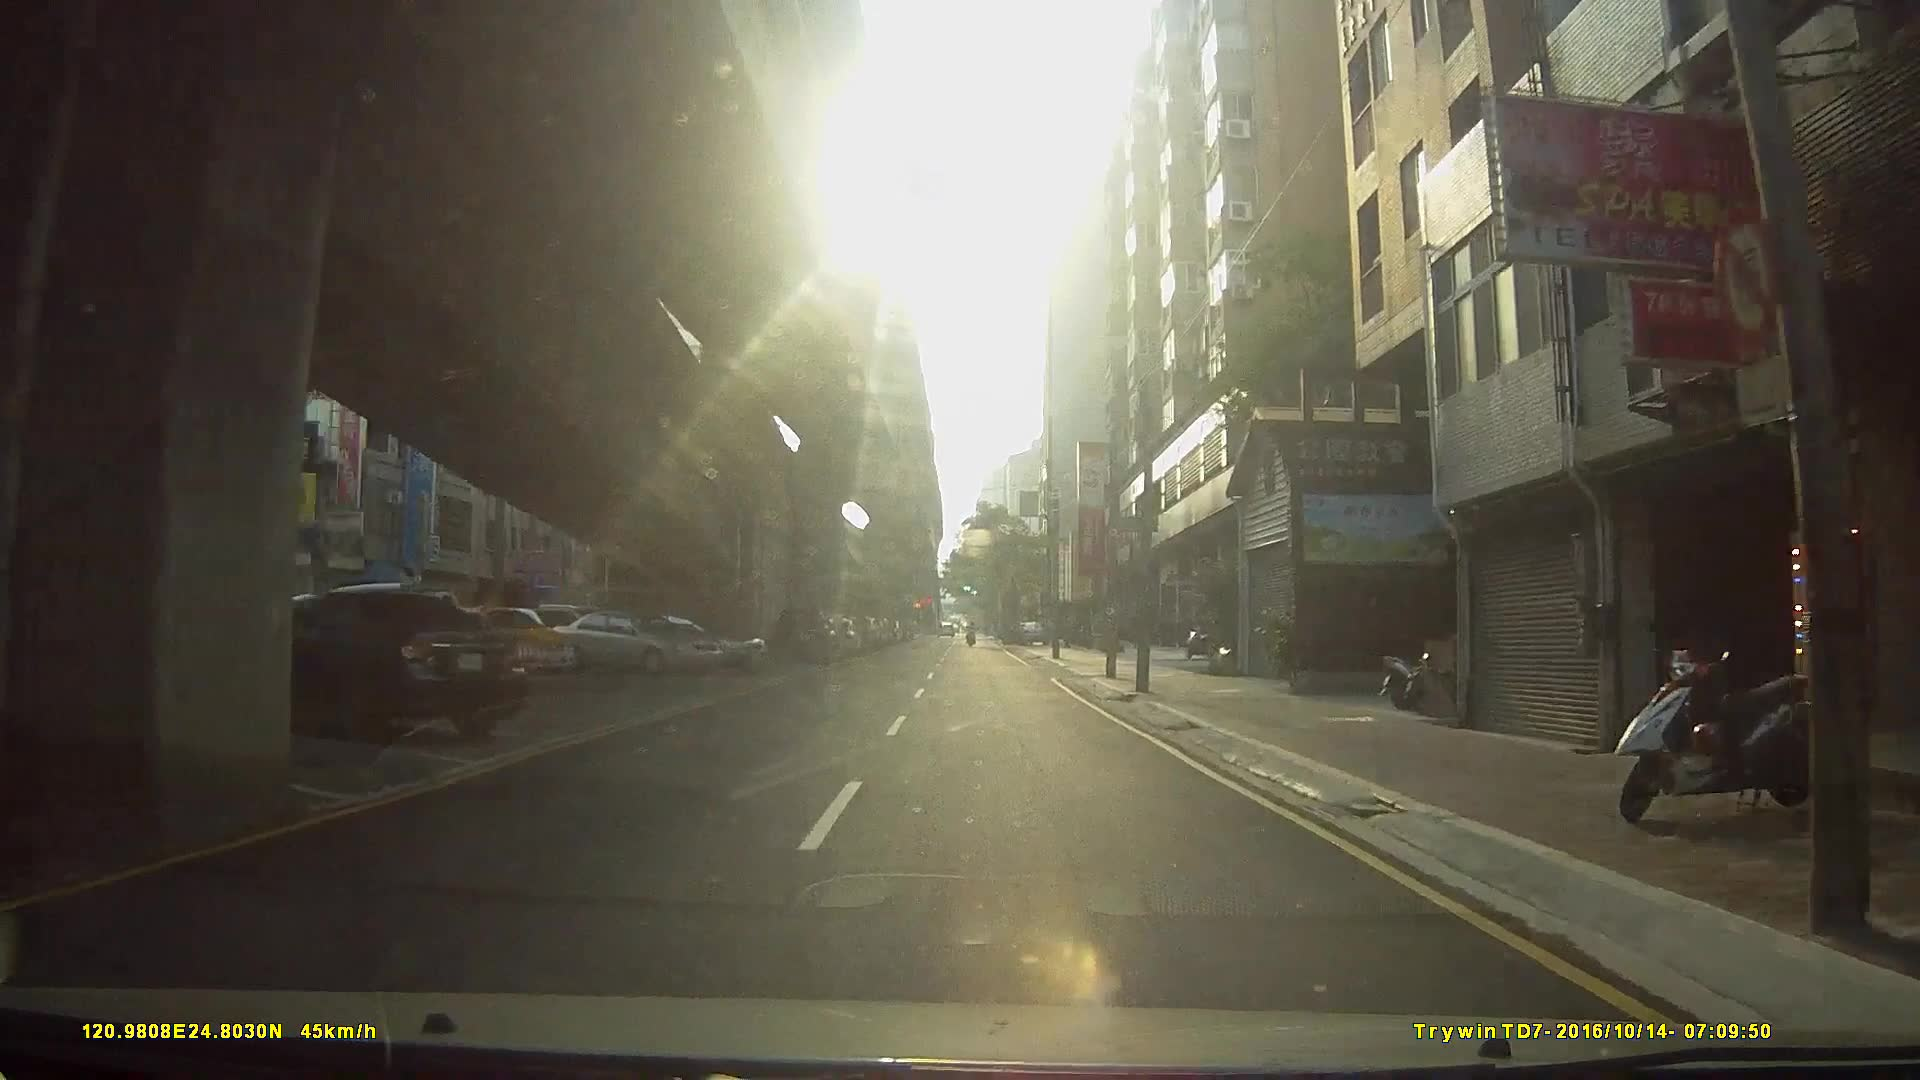vehicle: (237, 589, 530, 746), (543, 607, 723, 674), (455, 604, 578, 673), (767, 601, 839, 663)
